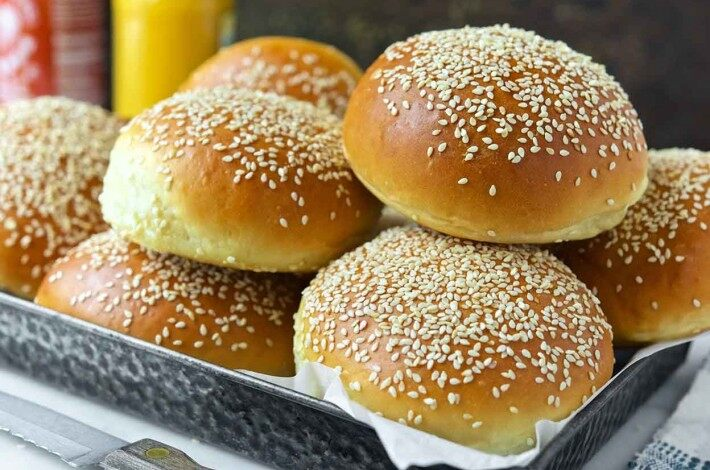hamburger_buns: (265, 219, 647, 464), (345, 31, 665, 230), (94, 91, 372, 247), (1, 75, 156, 257)
